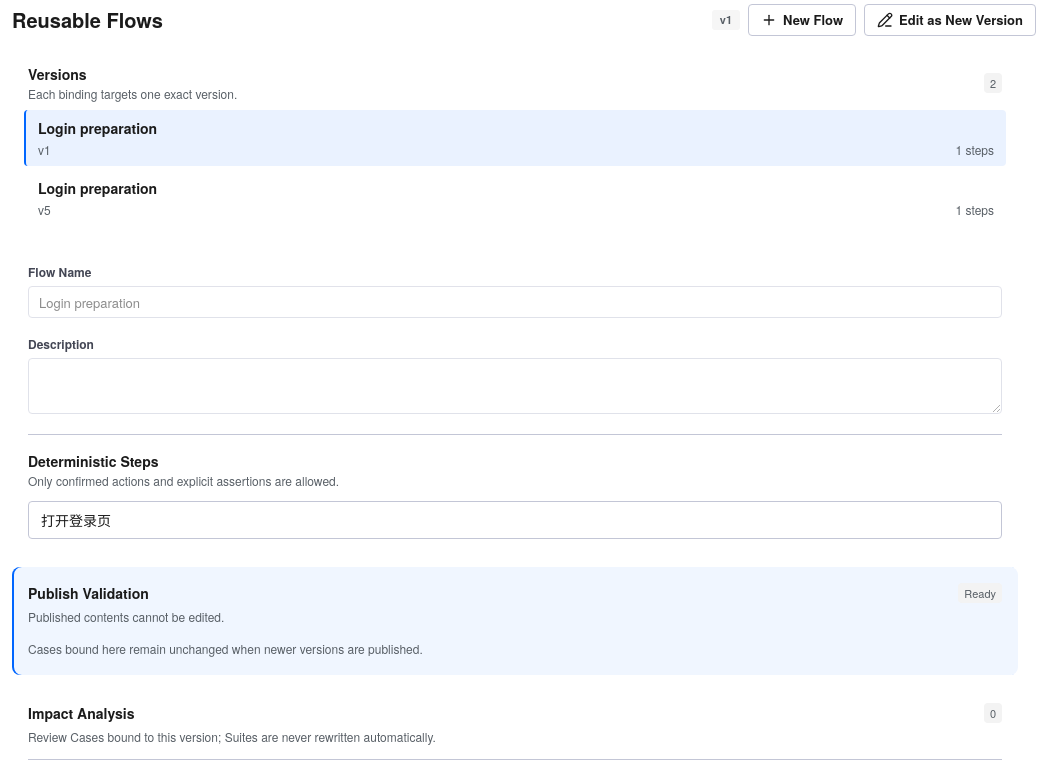
it: ReusableFlowsPage › uses the latest published version when editing a historical Flow version
Step 1. Click the button "Edit as New Version" → (950, 20), box [864,4,1036,36]
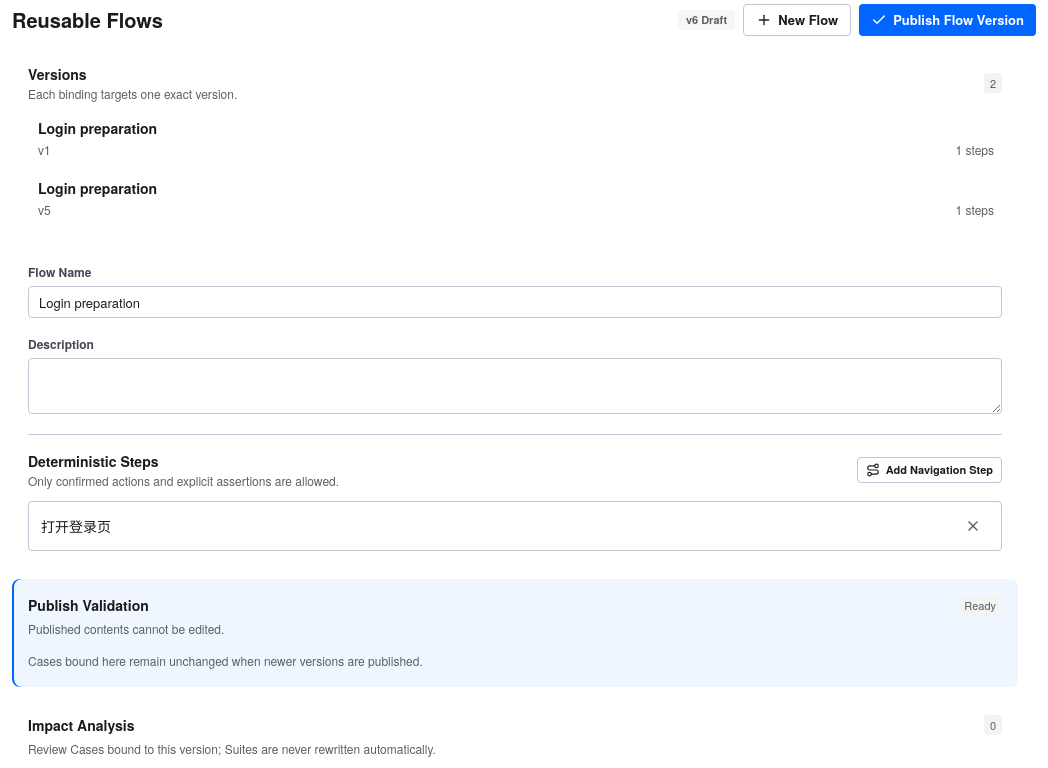
Now the text "v6 Draft" is shown, box [678,10,735,30]
